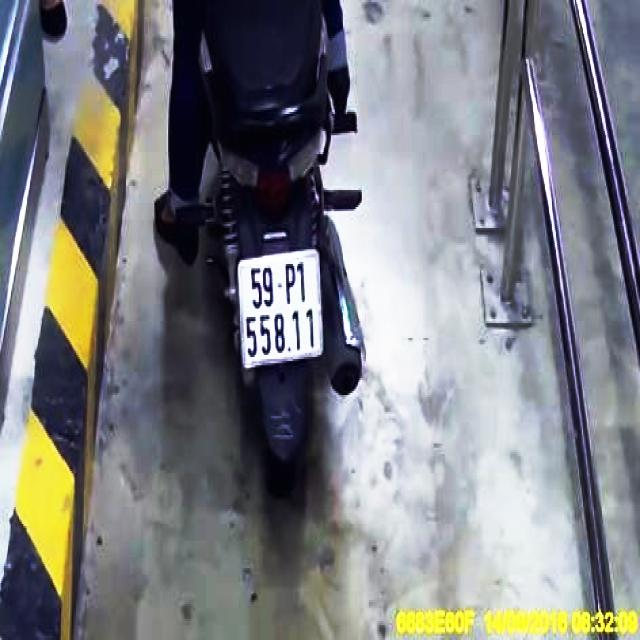license_plate: (242, 256, 321, 368)
